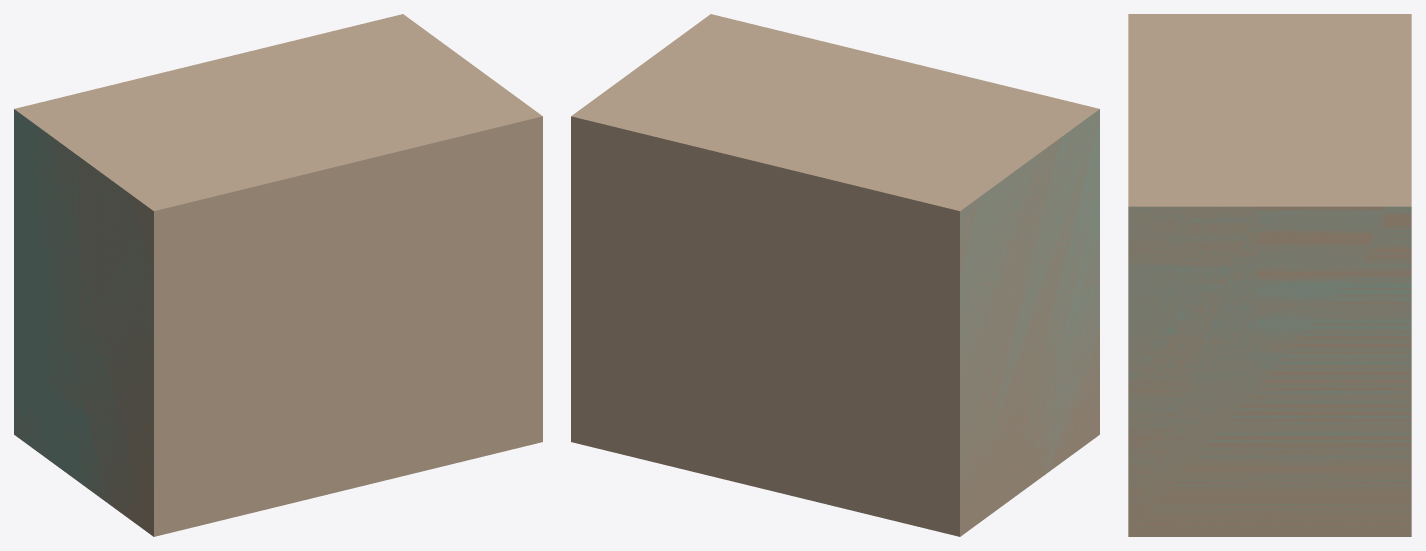
Rendered from unit-900.glb.
3 views of the same model, side by side, from view 1: azimuth 30°, elevation 25°; view 2: azimuth 150°, elevation 25°; view 3: azimuth 270°, elevation 25° (orthographic).
Visible parts, largest first — view 1: body, md-snap.carcass-side.left; view 2: body, md-snap.carcass-side.left; view 3: body, md-snap.carcass-side.right.
Part boxes in pixels (x1=…): body: x1=14, y1=14, x2=542, y2=536; md-snap.carcass-side.left: x1=14, y1=109, x2=153, y2=520; body: x1=571, y1=14, x2=1099, y2=536; md-snap.carcass-side.left: x1=960, y1=110, x2=1099, y2=471; body: x1=1128, y1=14, x2=1411, y2=536; md-snap.carcass-side.right: x1=1128, y1=207, x2=1411, y2=515.
Bounding box in the file's own units: 0.9 × 0.72 × 0.56.
